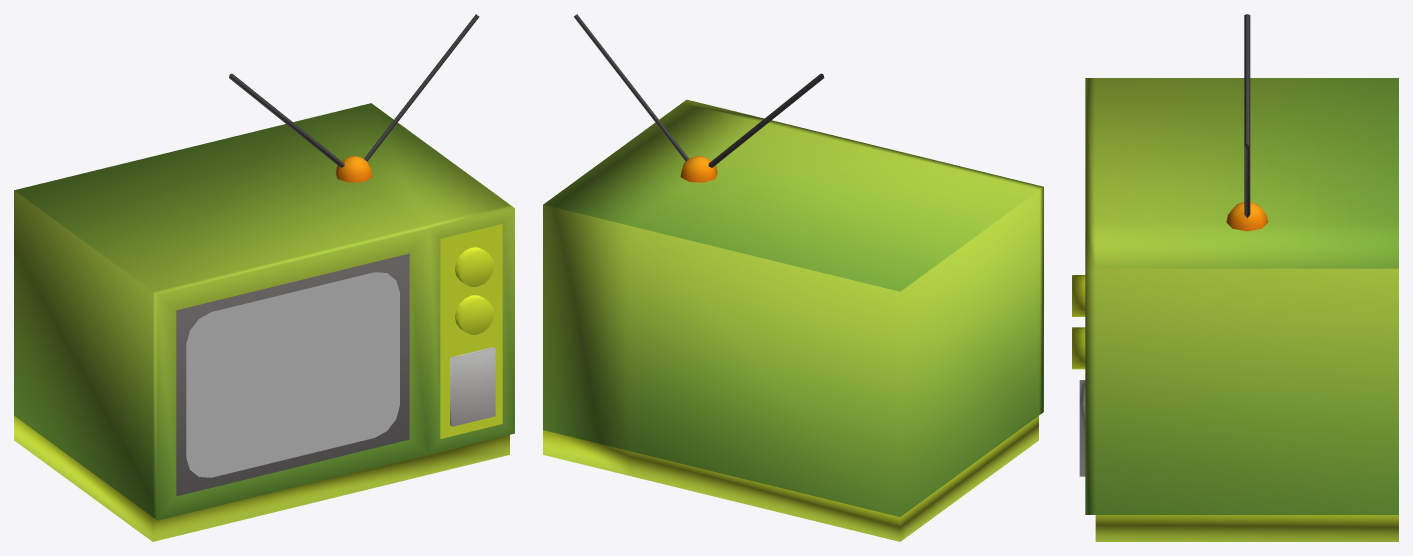
The model's file is tv_crt.fbx.
The picture shows the model from 3 angles, left to right: view 1: azimuth 30°, elevation 25°; view 2: azimuth 150°, elevation 25°; view 3: azimuth 270°, elevation 25°; orthographic projection. The views are drawn at different scales.
Parts seen in each view (by area): view 1: Cube.011; view 2: Cube.011; view 3: Cube.011.
Boxes of the visible parts, x1=… form: Cube.011: x1=14, y1=14, x2=514, y2=541; Cube.011: x1=543, y1=14, x2=1043, y2=541; Cube.011: x1=1072, y1=14, x2=1398, y2=541.
Size of the model in its own units: 30.41 by 27.98 by 19.89.
